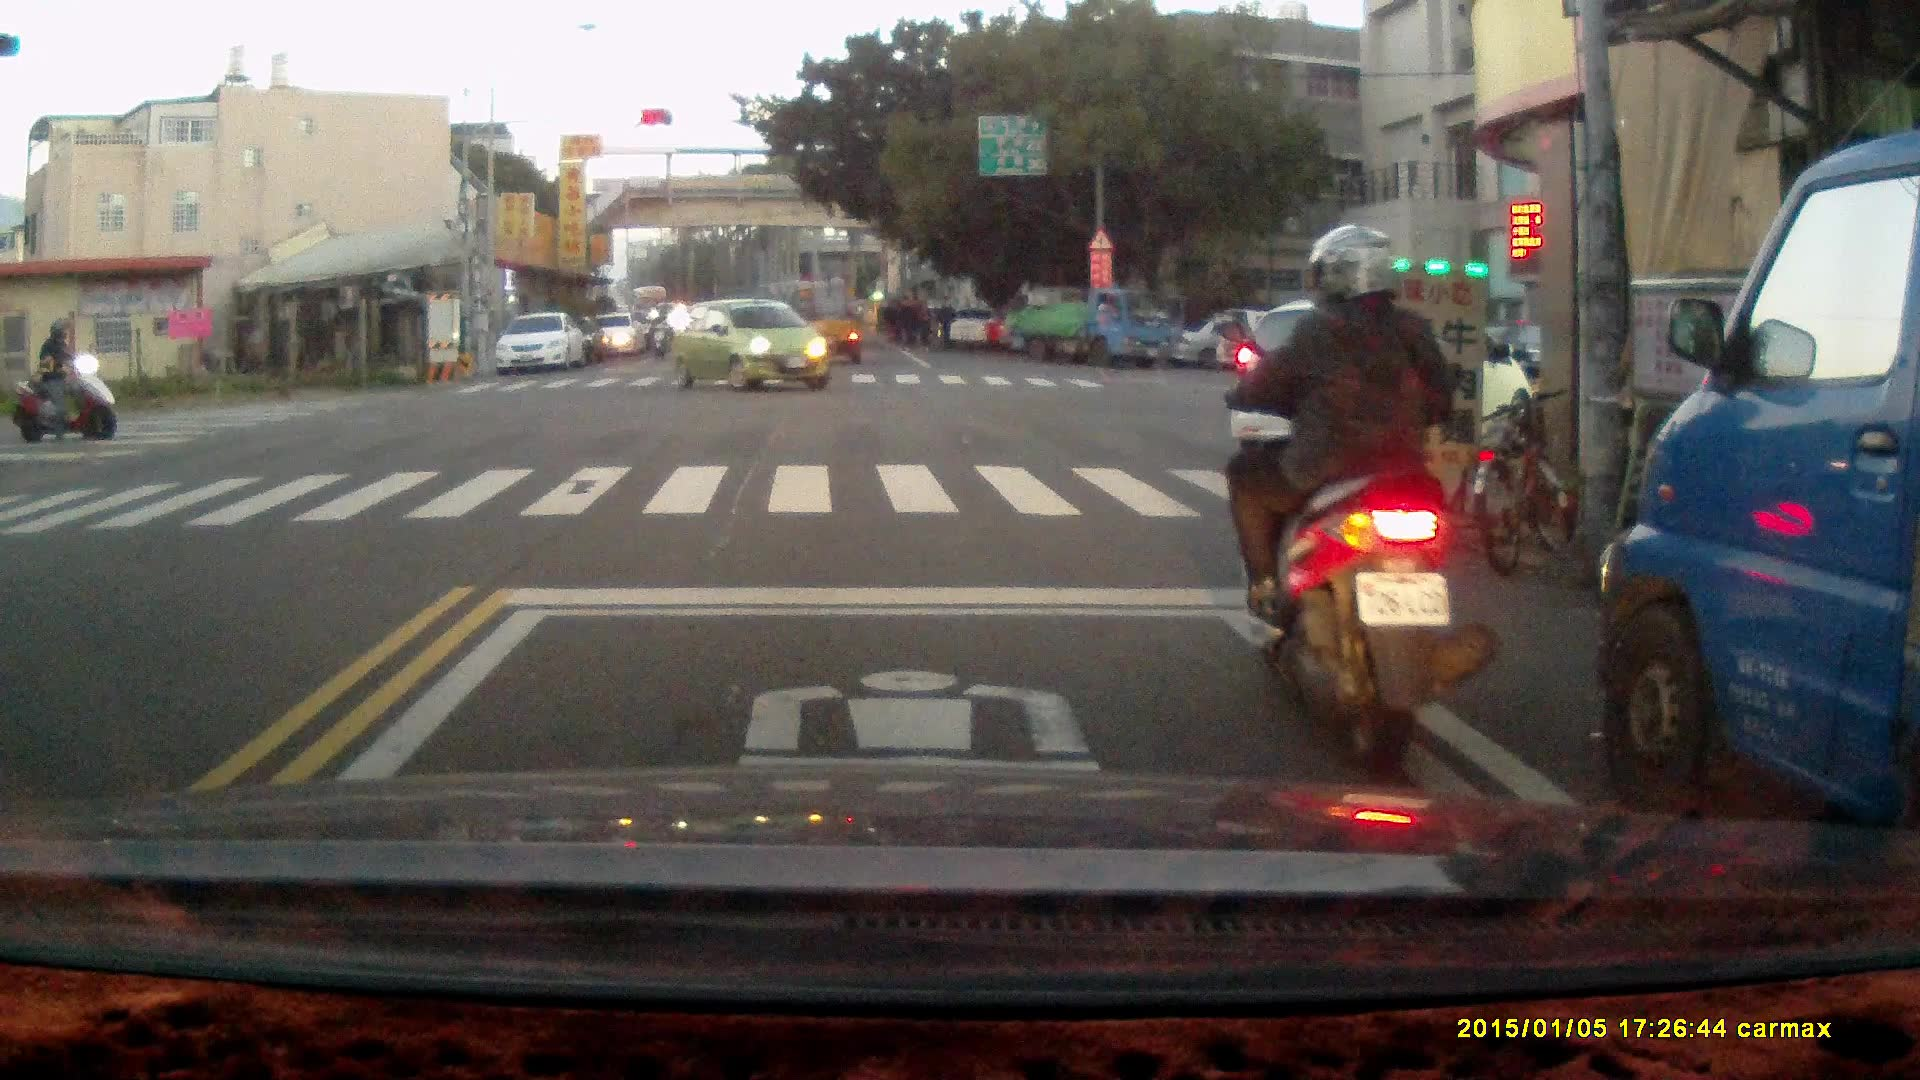rider: (1214, 220, 1502, 770), (10, 317, 119, 440), (648, 308, 673, 361)
vehicle: (1600, 132, 1920, 921), (1217, 294, 1527, 464), (674, 295, 828, 397), (1002, 284, 1176, 367), (784, 274, 866, 372), (496, 313, 587, 377), (592, 311, 642, 360)
